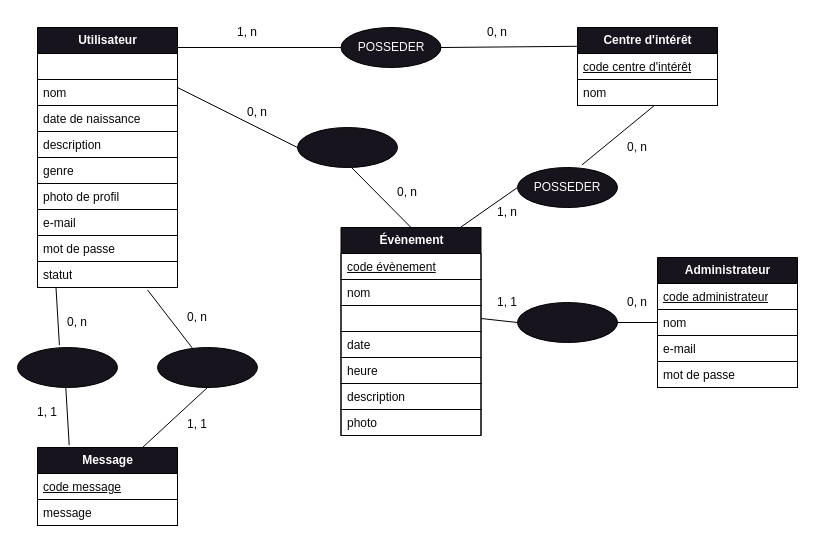
Some shapes in this 815 by 545 pixel diagram are drawn without their labels. The box of each missing label's shape, as (x1, y1, x2, y2) in pixels:
code utilisateur: (36, 52, 178, 80)
CRÉER: (516, 302, 618, 342)
ENVOYER: (16, 346, 118, 388)
lieu: (340, 304, 481, 332)
RECEVOIR: (156, 346, 258, 388)
S'INSCRIRE: (296, 126, 398, 168)
